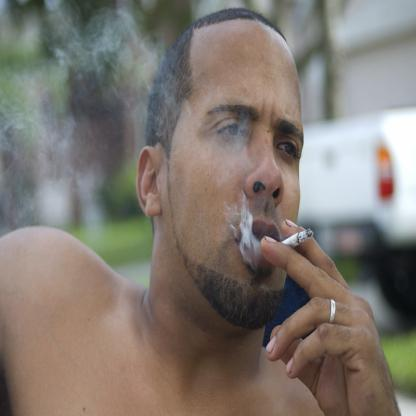smoking: (275, 228, 314, 252)
